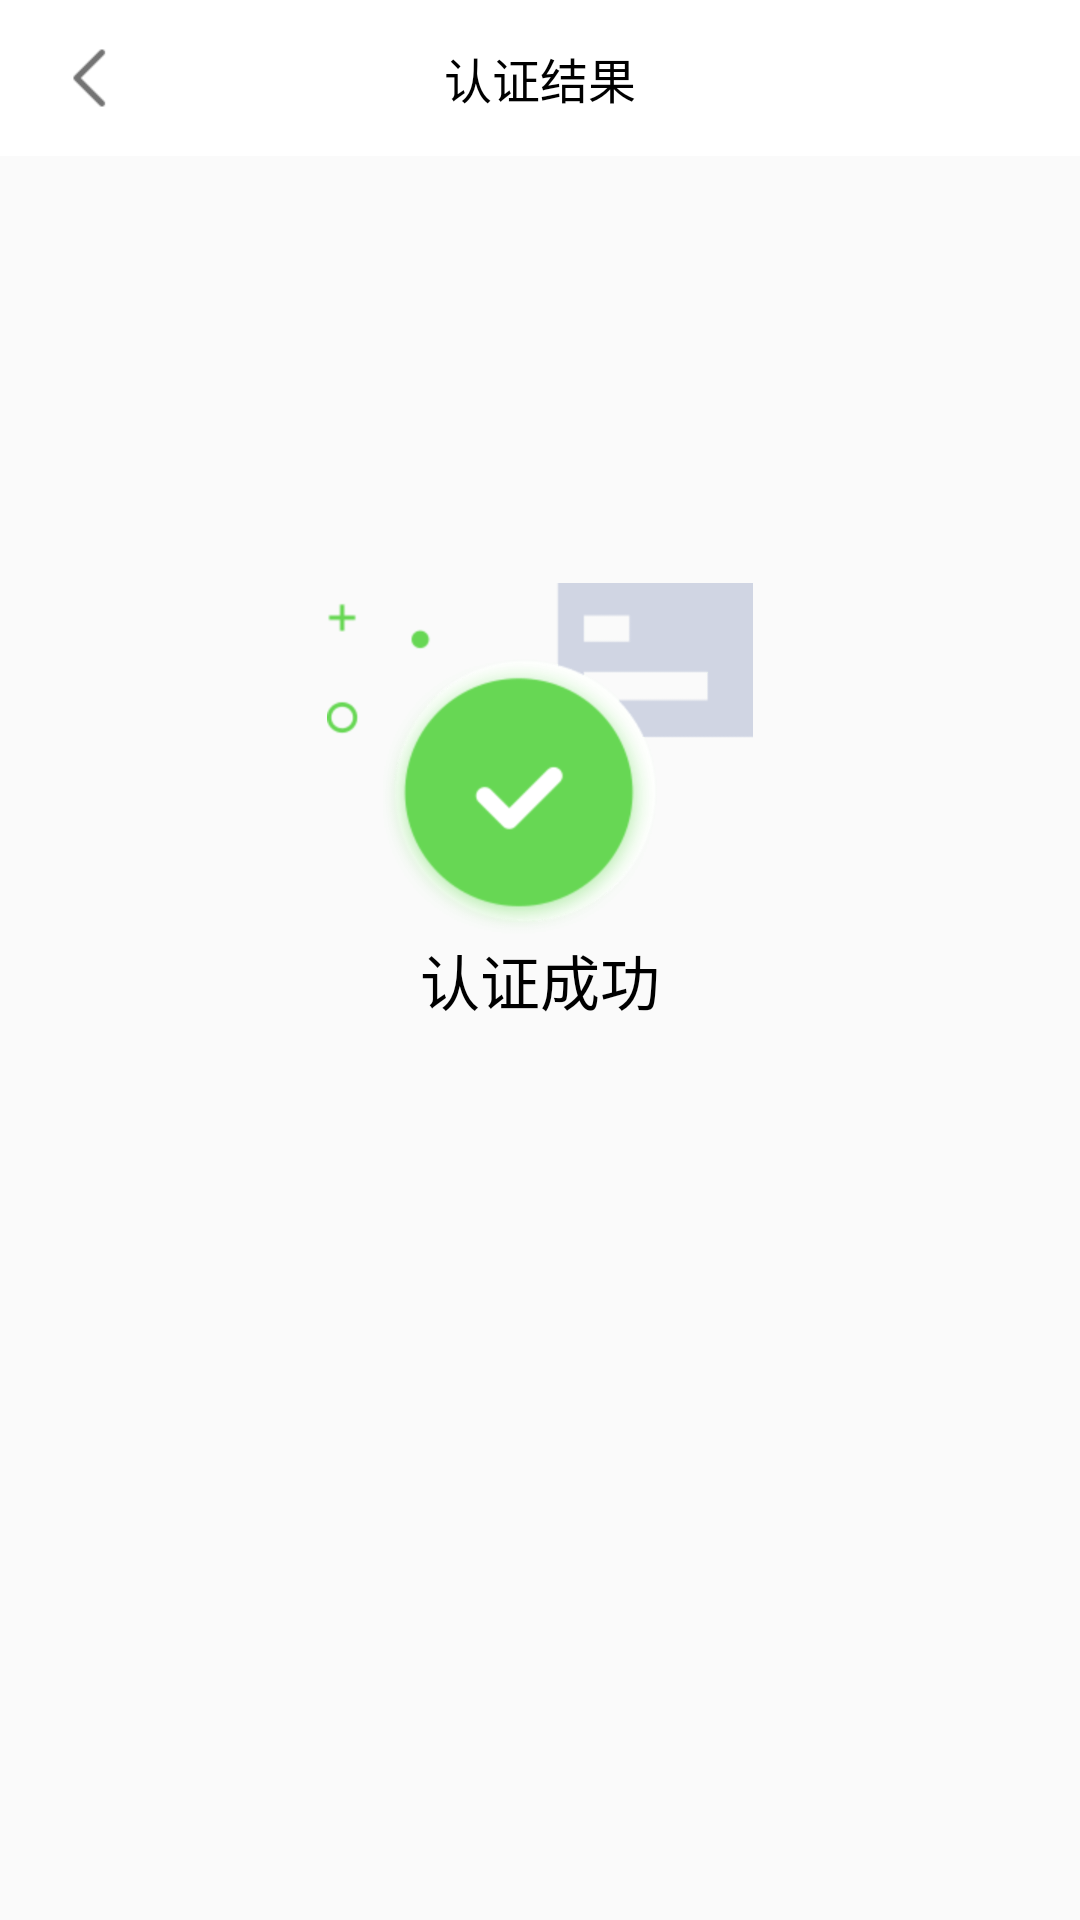

Point at icon controls on the screen. Image size 1080×1920, points as (x,y).
back: (89,78)
